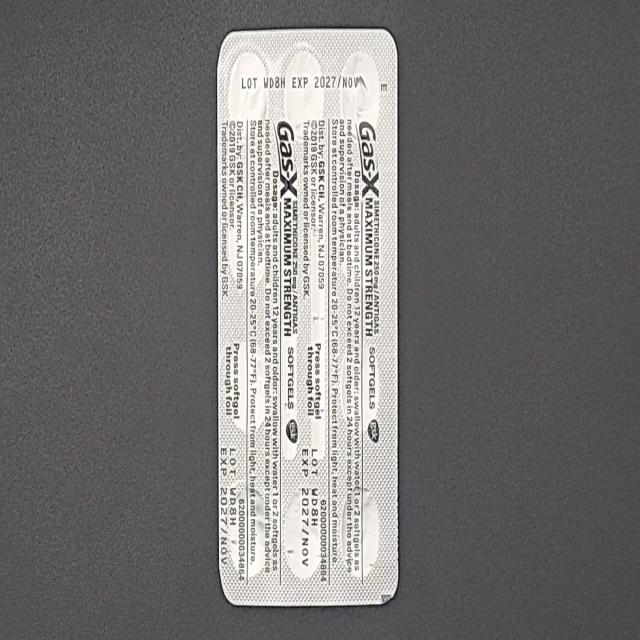no defect: (10, 19, 37, 70)
